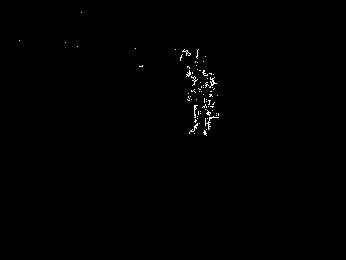person: (188, 58, 220, 139)
